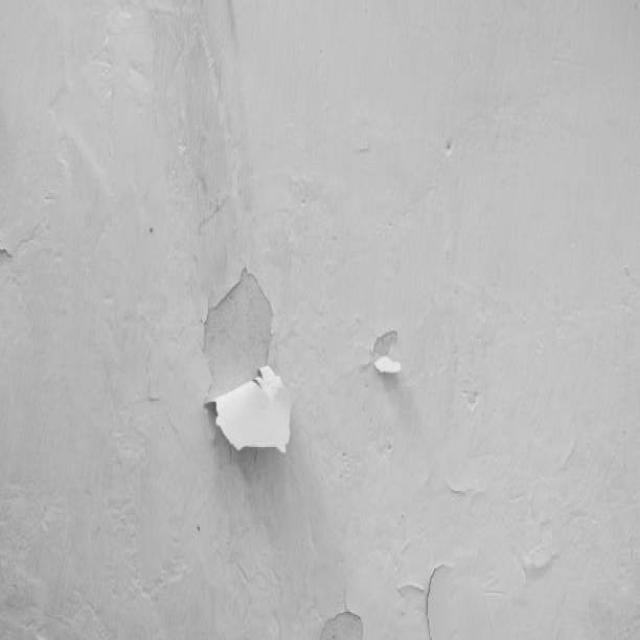peeling paint: (166, 192, 476, 640)
